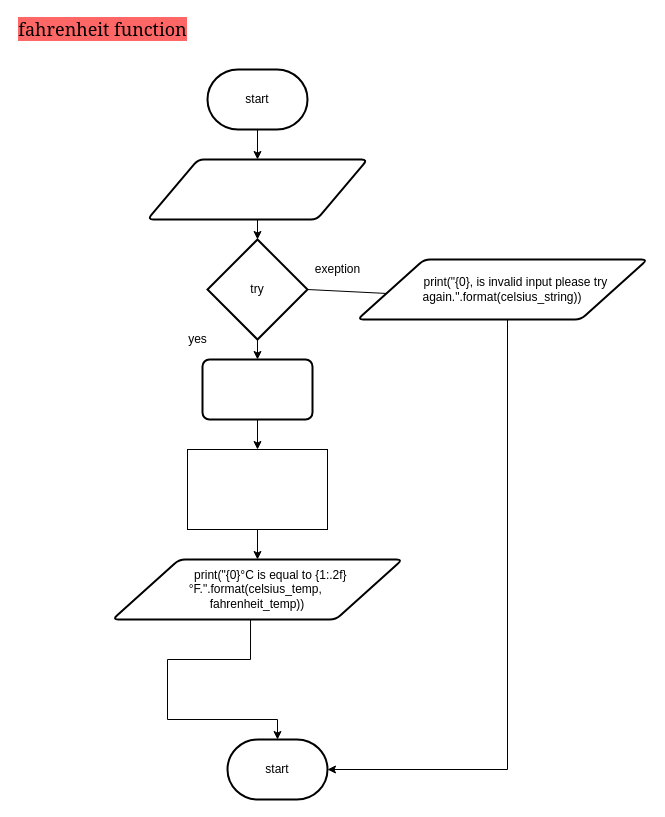
The diagram is 665 pixels wide and 817 high, and some of its shapes have lost their labels. The centre of each missing label's shape, as x and y in pixels:
celsius_string = input("Enter a temperature (°C):"): (257,189)
convert string to int: (257,389)
fahrenheit_temp = 9 / 5 * celsius_temp + 32: (257,489)
